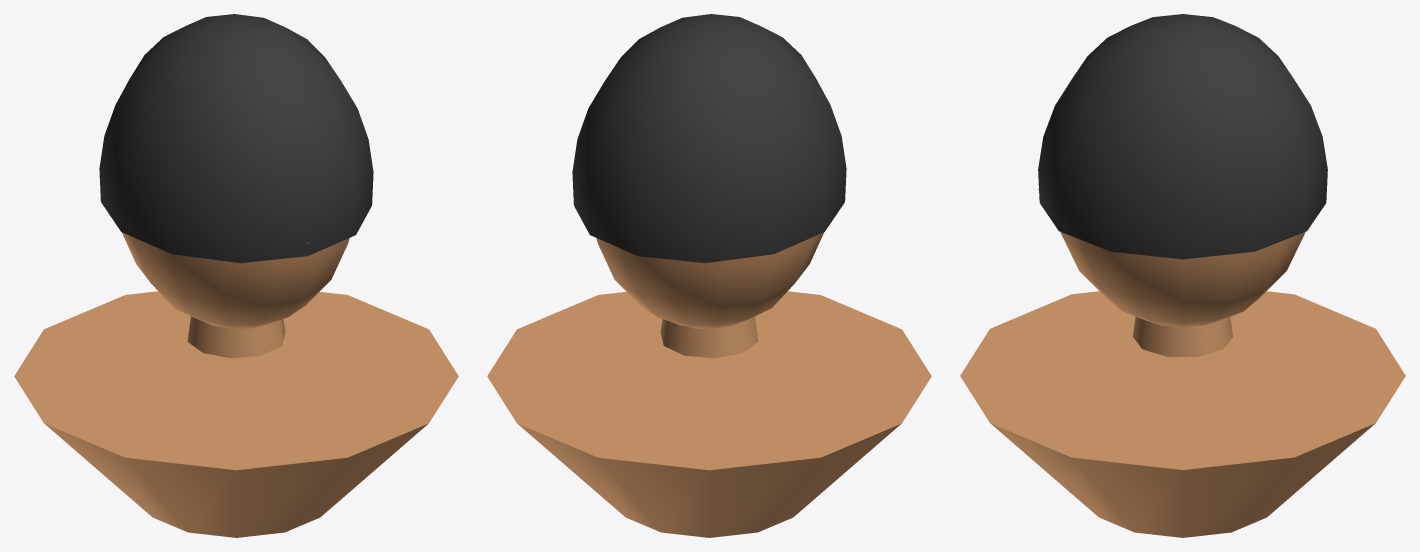
Rendered from portrait04t_001.glb.
3 renders of one model, left to right at view 1: azimuth 30°, elevation 25°; view 2: azimuth 150°, elevation 25°; view 3: azimuth 270°, elevation 25°, orthographic.
Size of the model in its own units: 1.87 by 2.19 by 1.87.
